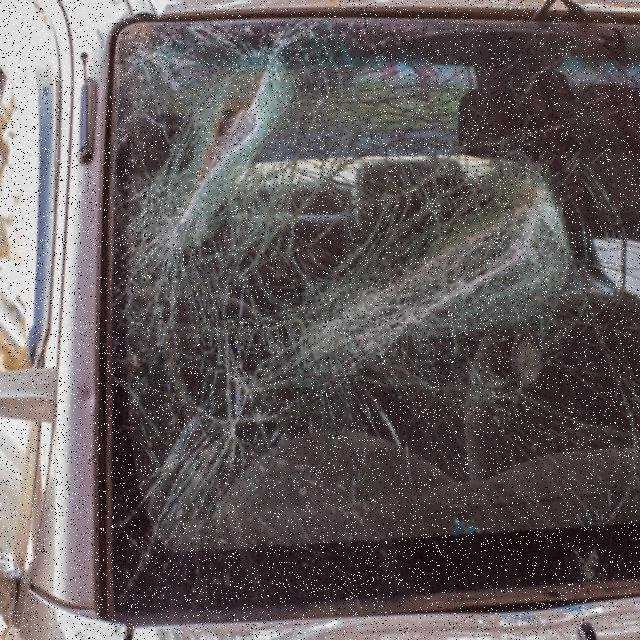Front-Windscreen-Damage: (88, 20, 639, 639)
